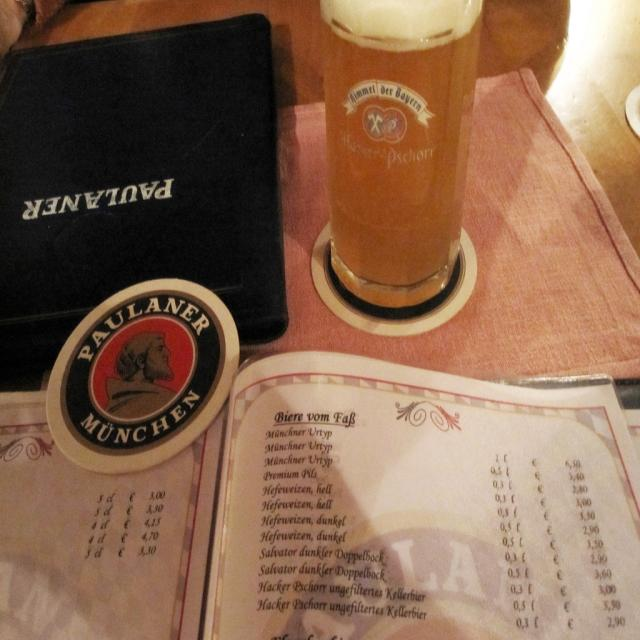paulaner: (59, 288, 227, 457)
